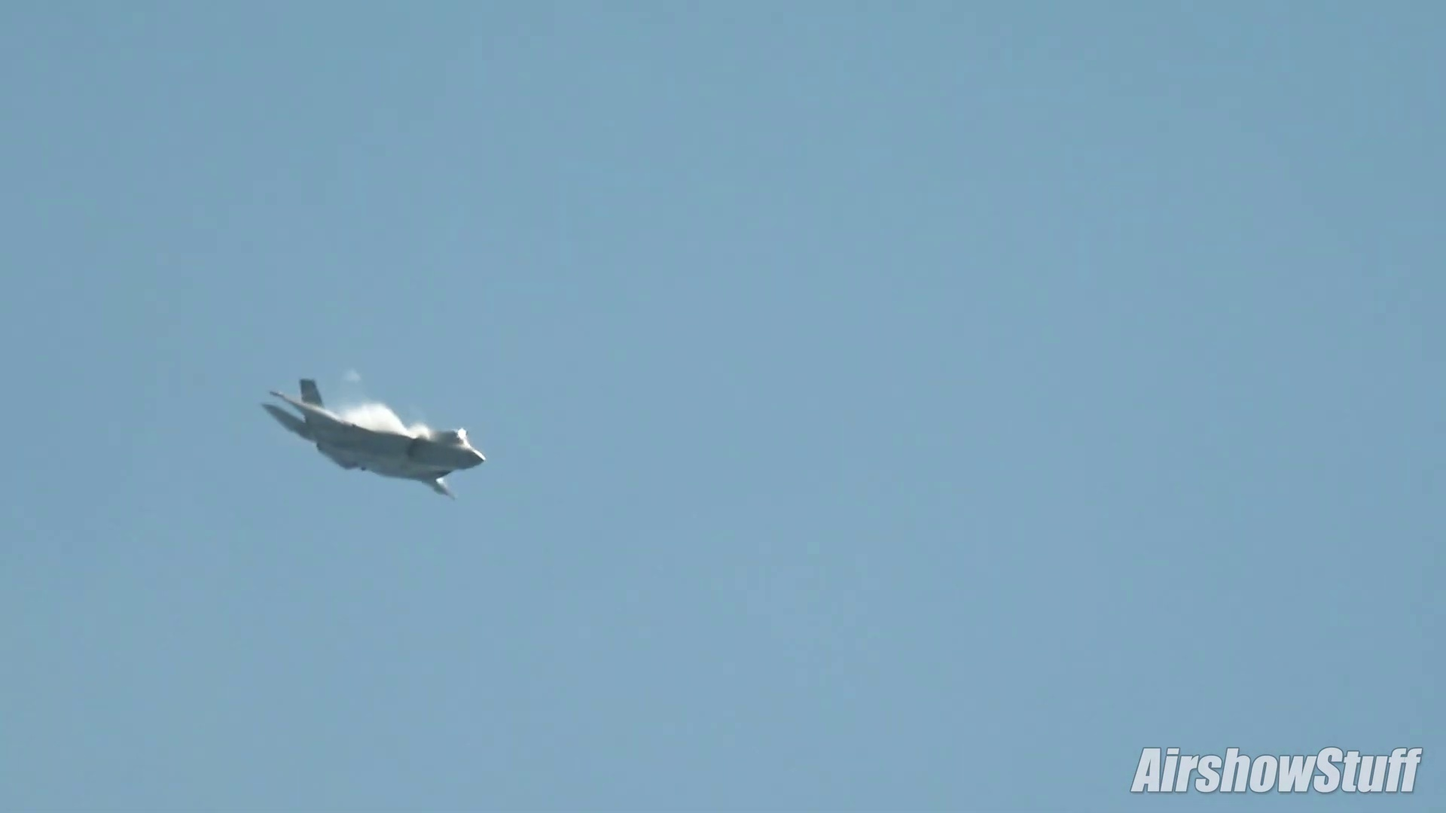F35: (247, 370, 495, 509)
